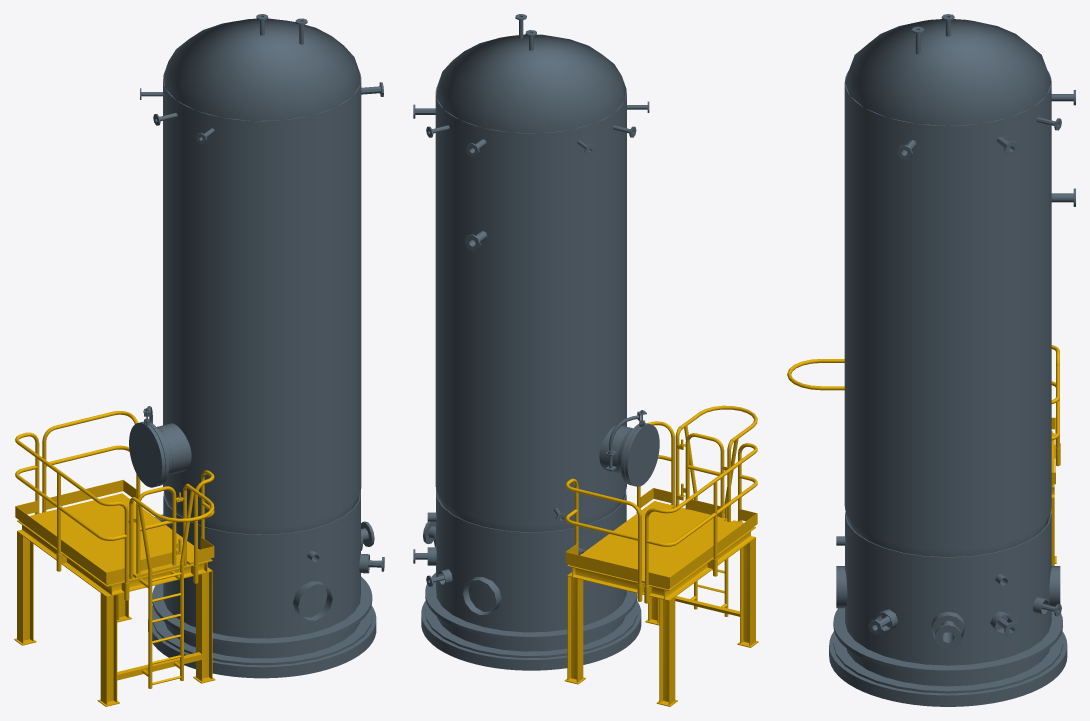
File: Zone_P2_Eqp_Process_22.fbx
3 renders of one model, left to right at view 1: azimuth 30°, elevation 25°; view 2: azimuth 150°, elevation 25°; view 3: azimuth 270°, elevation 25°, orthographic. The views are drawn at different scales.
Parts seen in each view (by area): view 1: EQP_Process_vessel, EQP_Process_plateform; view 2: EQP_Process_vessel, EQP_Process_plateform; view 3: EQP_Process_vessel, EQP_Process_plateform.
Part boxes in pixels (box(x1,y1,x2,y2)): EQP_Process_vessel: box(129, 14, 384, 678); EQP_Process_plateform: box(14, 411, 215, 706); EQP_Process_vessel: box(413, 14, 659, 670); EQP_Process_plateform: box(564, 405, 758, 706); EQP_Process_vessel: box(829, 14, 1075, 706); EQP_Process_plateform: box(787, 345, 1060, 565).
Size of the model in its own units: 432 by 830 by 339.
